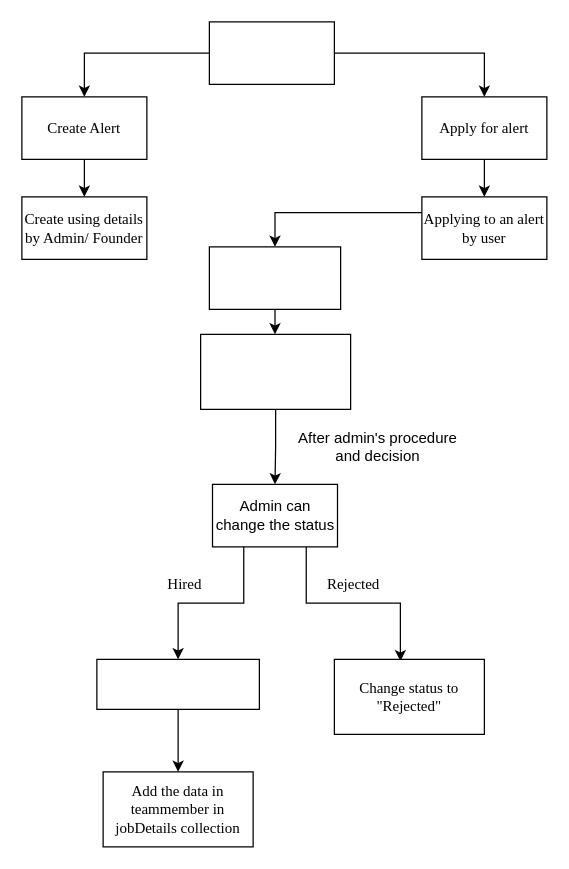
Image size: 569x869. Some labels were removed from this diagram. Each missing label, with the centre of its shape:
Admin will look according to its own processes: point (275, 371)
Applied candidates details will be displayed to admin: point (274, 277)
Change status to "Hired": point (177, 683)
Job Alerts: point (271, 52)
